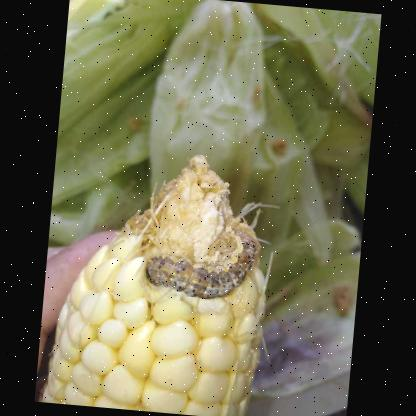Fall Armyworm Larvae: (140, 219, 262, 306)
